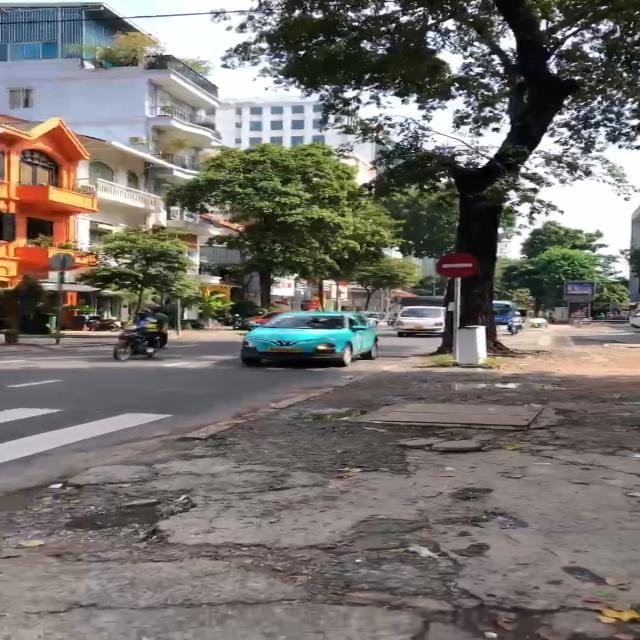Bien bao cam di nguoc chieu: (434, 249, 481, 281)
